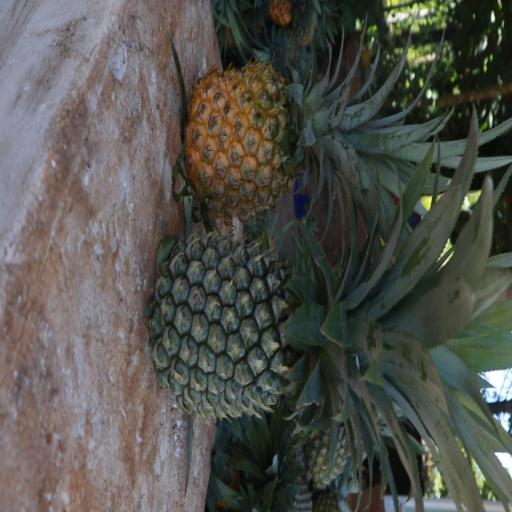Pineapple - v8 v1: (188, 68, 454, 215)
